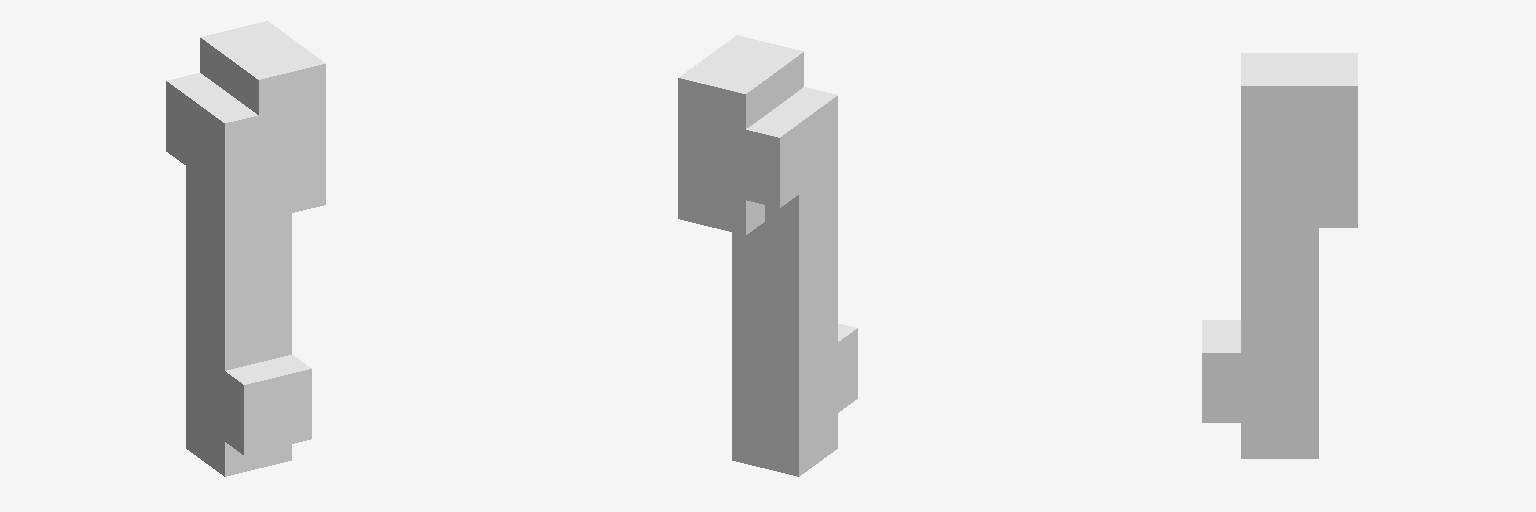
File: cool-trainer-1.obj
The picture shows the model from 3 angles: view 1: azimuth 30°, elevation 25°; view 2: azimuth 150°, elevation 25°; view 3: azimuth 270°, elevation 25°; orthographic projection.
Parts seen in each view (by area): view 1: object 1; view 2: object 1; view 3: object 1.
Boxes of the visible parts, x1,y1,x2,y2 form: object 1: [166, 21, 325, 476]; object 1: [678, 35, 857, 476]; object 1: [1202, 53, 1357, 458].
Size of the model in its own units: 0.3 by 1.1 by 0.4.